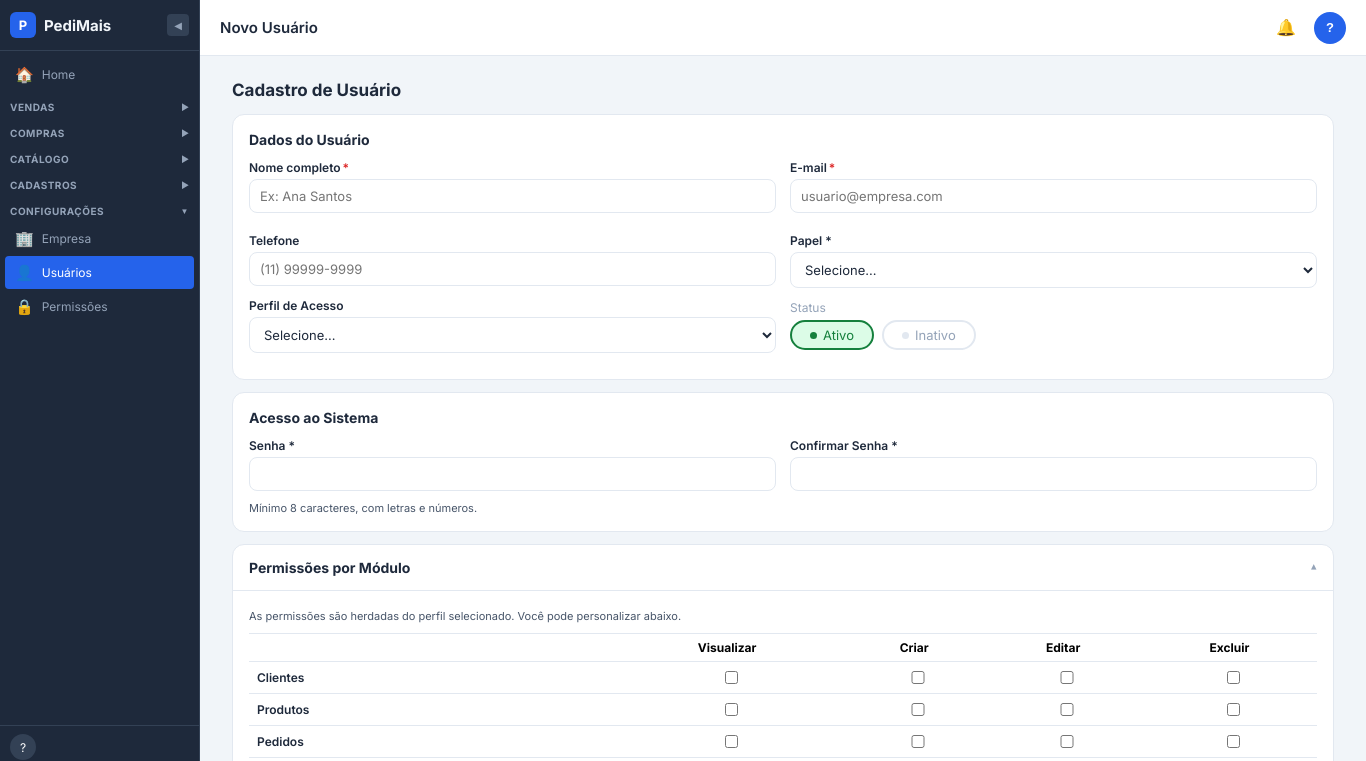
Test case: UserFormView › rejects mismatched password confirmation
The image size is (1366, 761).
Type "Carla" into the field with test id "name" at (512, 196), box [249, 179, 776, 213]
Type "carla@aurora.com.br" into the field with test id "email" at (1054, 196), box [790, 179, 1317, 213]
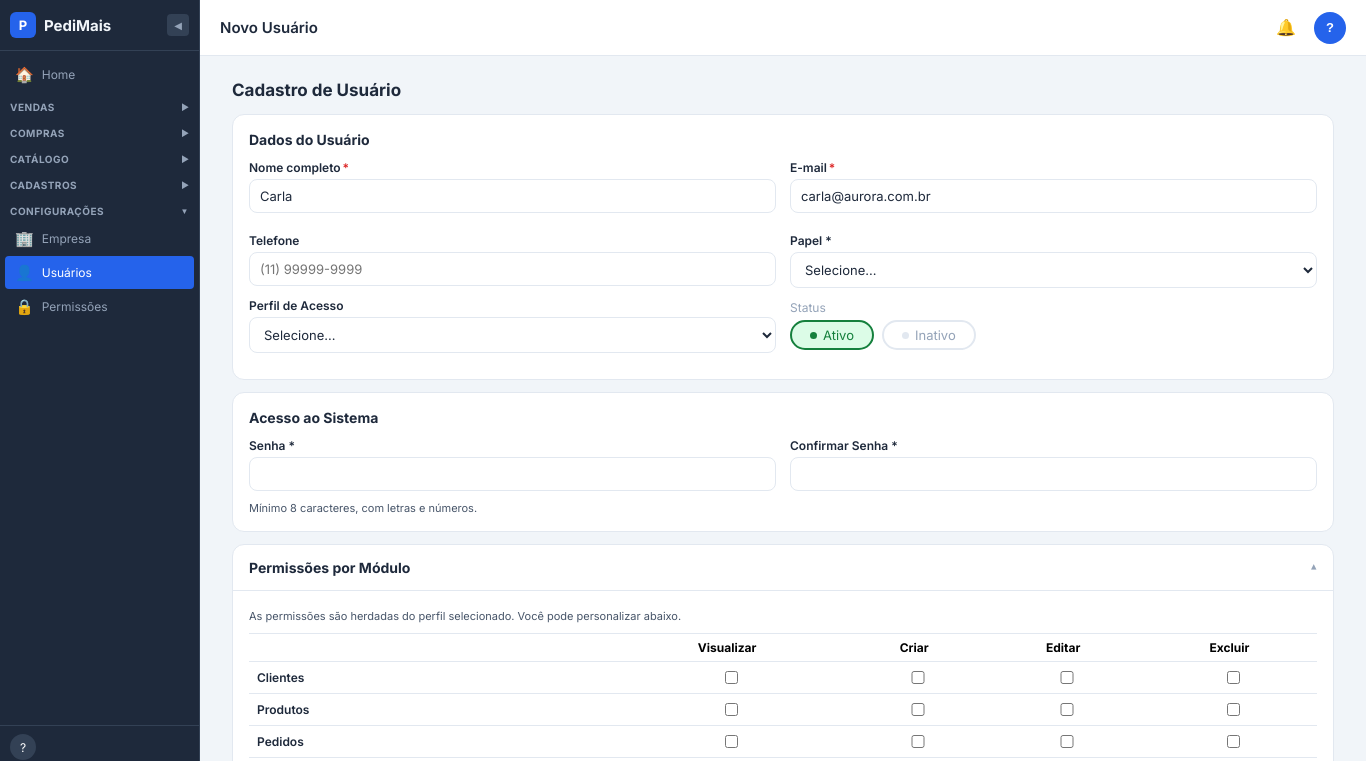
Select "Representante" in the dropdown with test id "role" at (1054, 270), box [790, 252, 1317, 288]
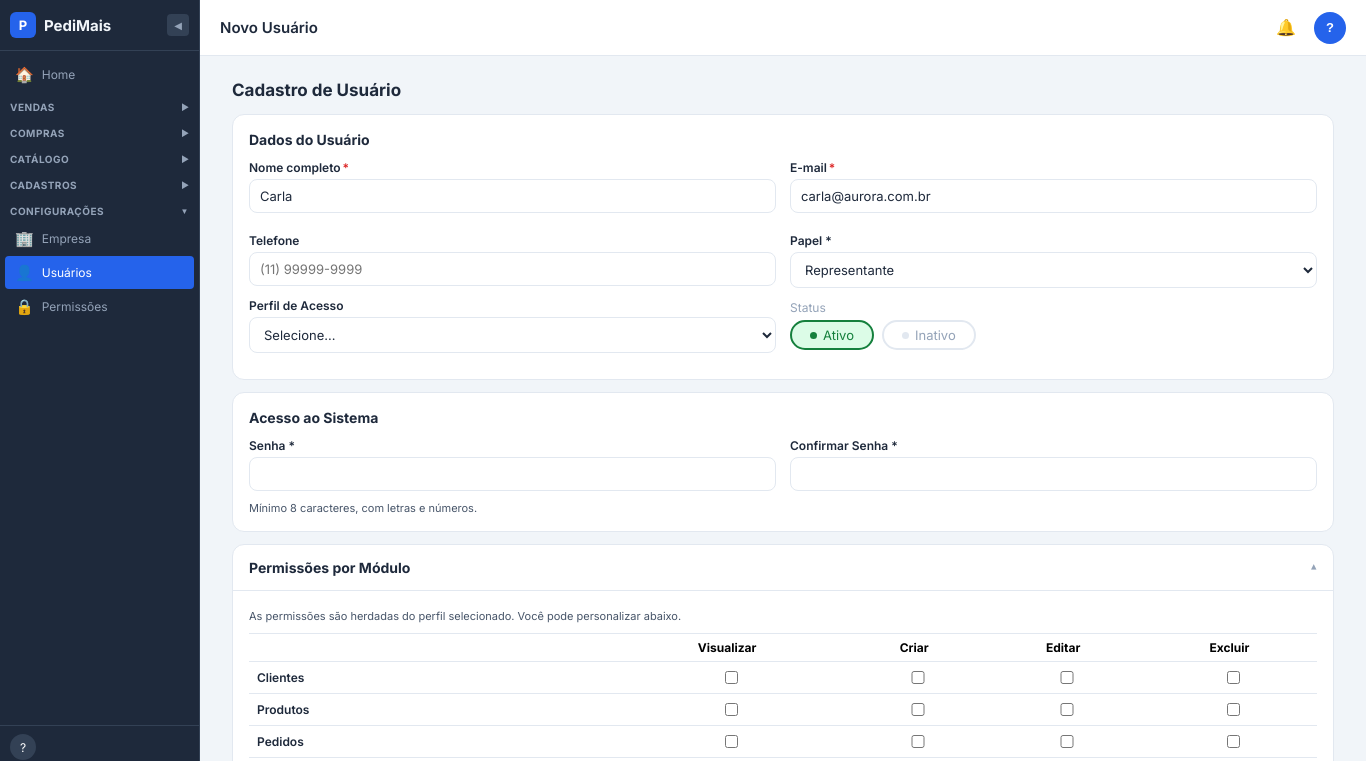
Select "Vendedor" in the dropdown with test id "profile" at (512, 335), box [249, 317, 776, 353]
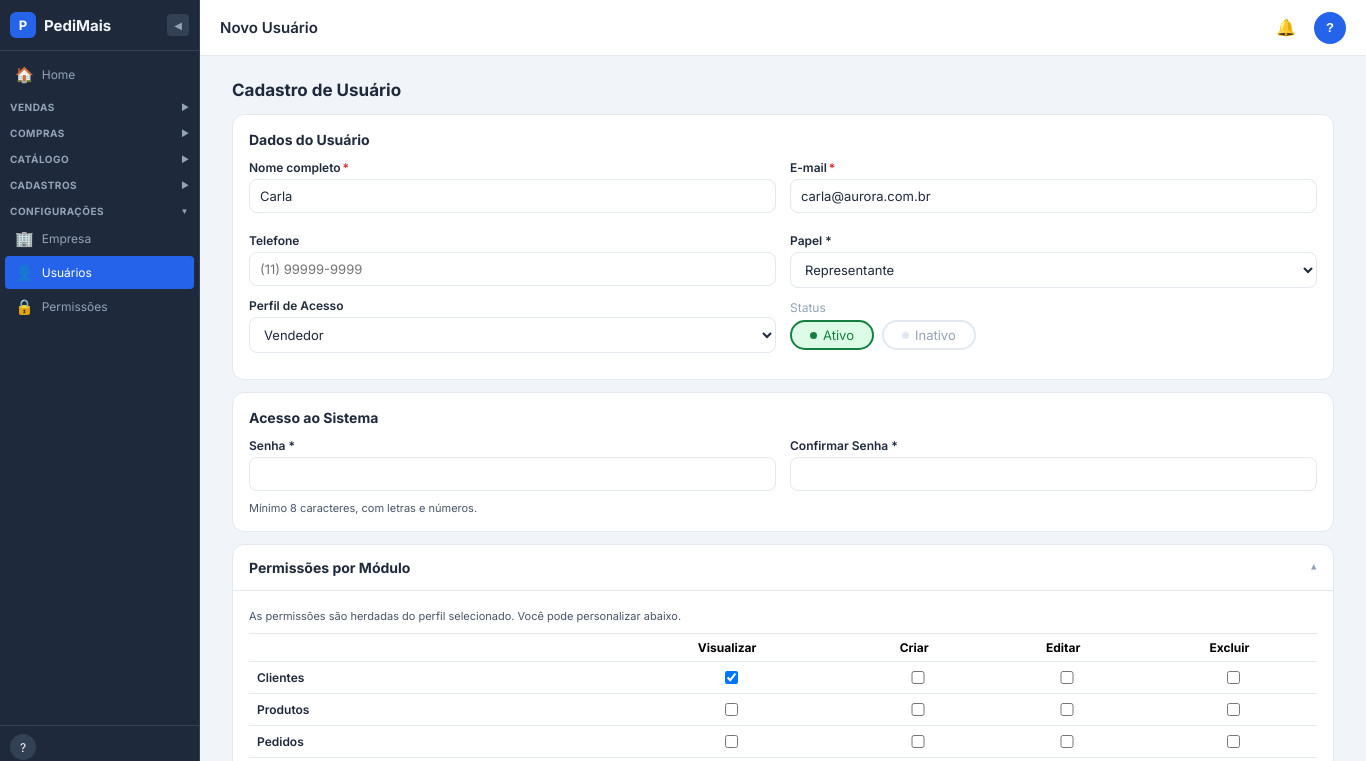
Type "senha1234" into the password field with test id "password" at (512, 474), box [249, 457, 776, 491]
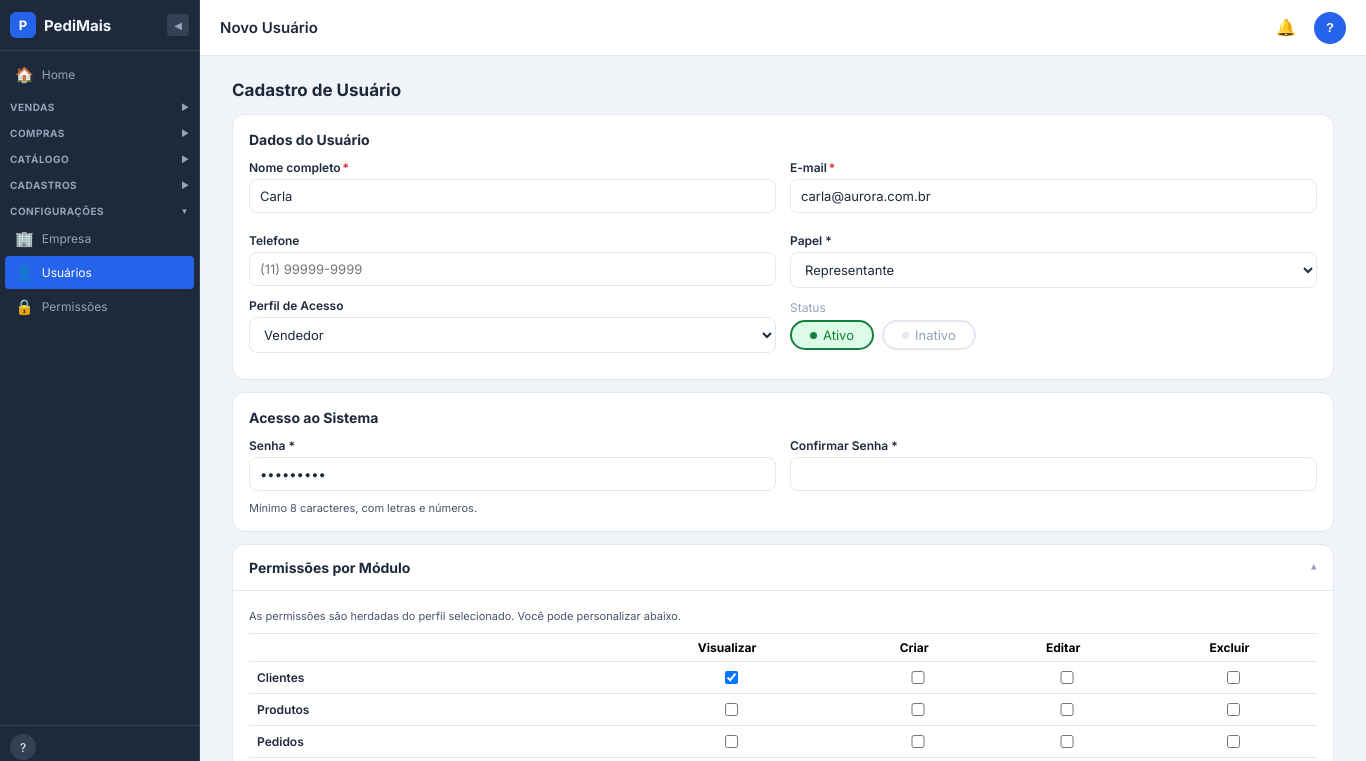
Type "outraSenha1" into the password field with test id "confirm-password" at (1054, 474), box [790, 457, 1317, 491]
(page scrolled)
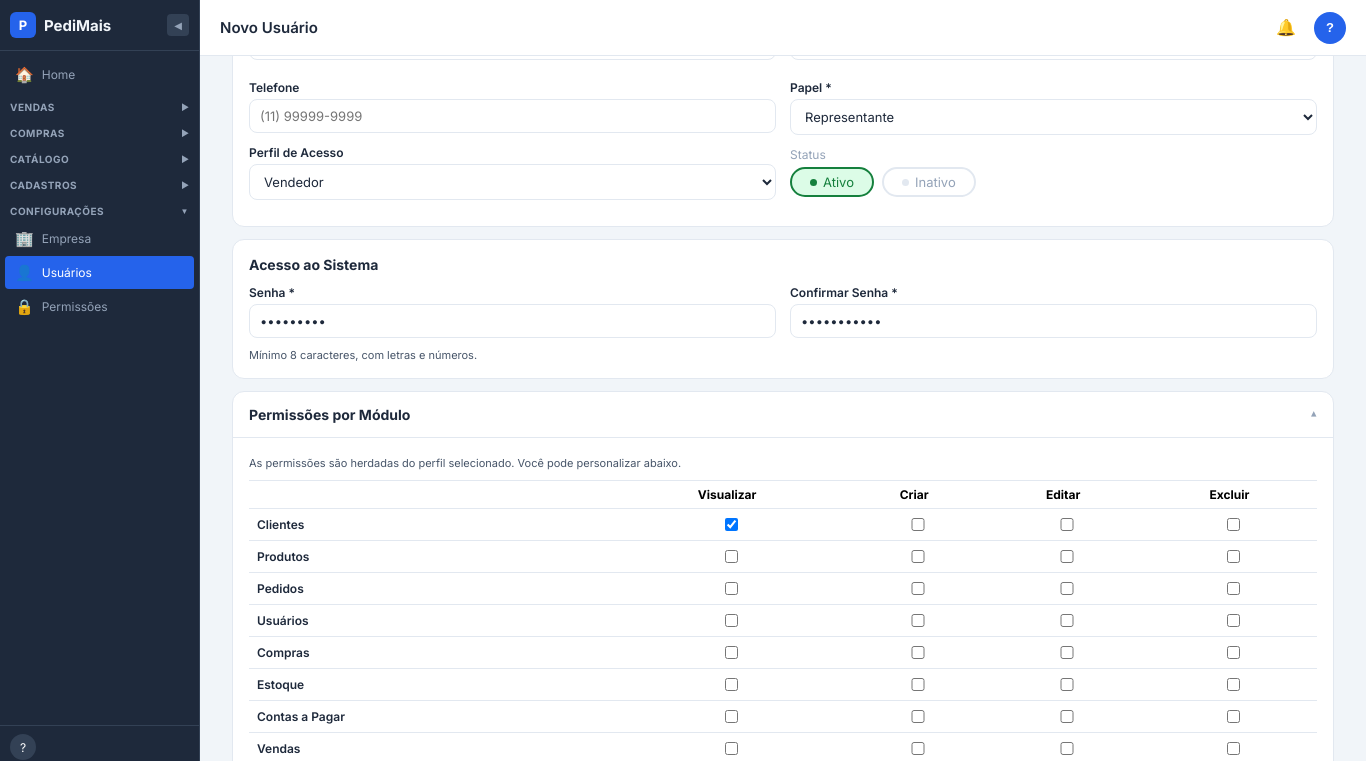
Submit the form
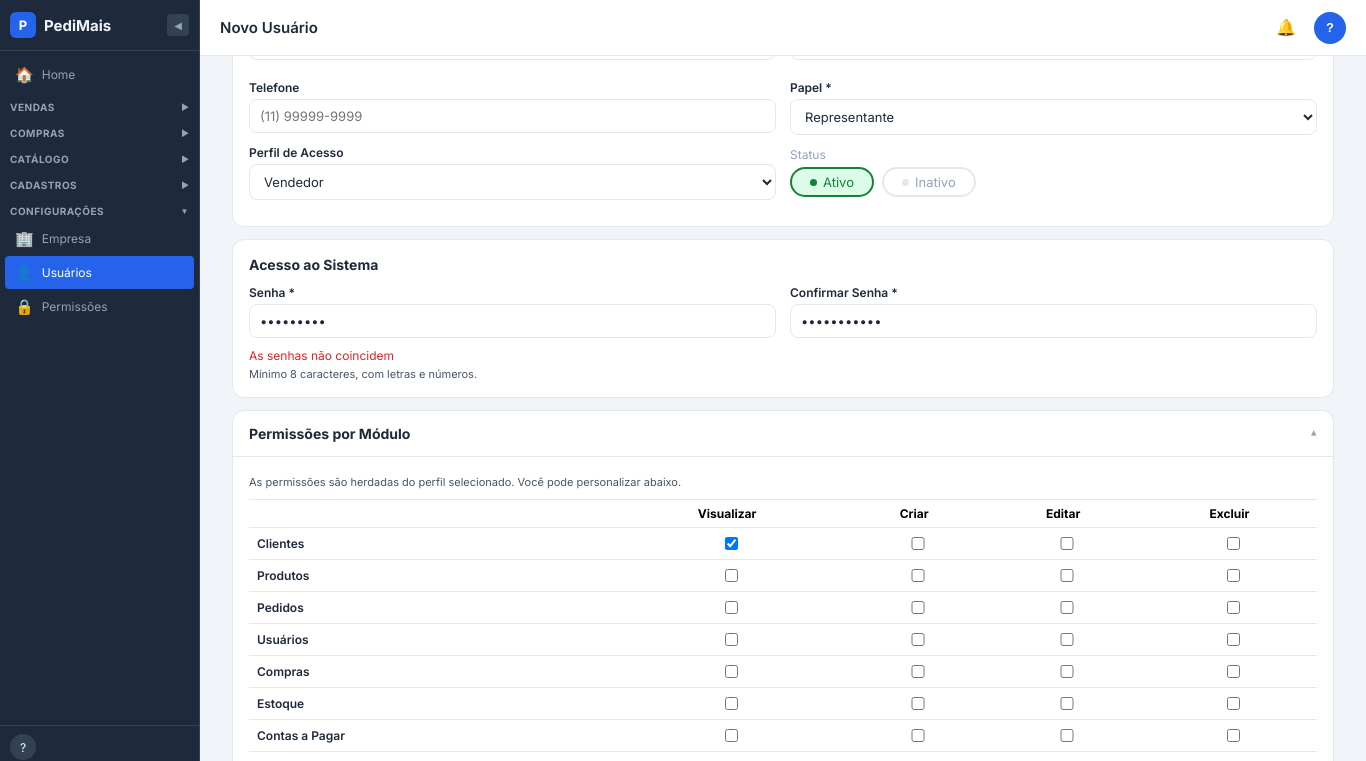
expect the text "As senhas não coincidem" is shown: met, box [249, 348, 394, 363]
